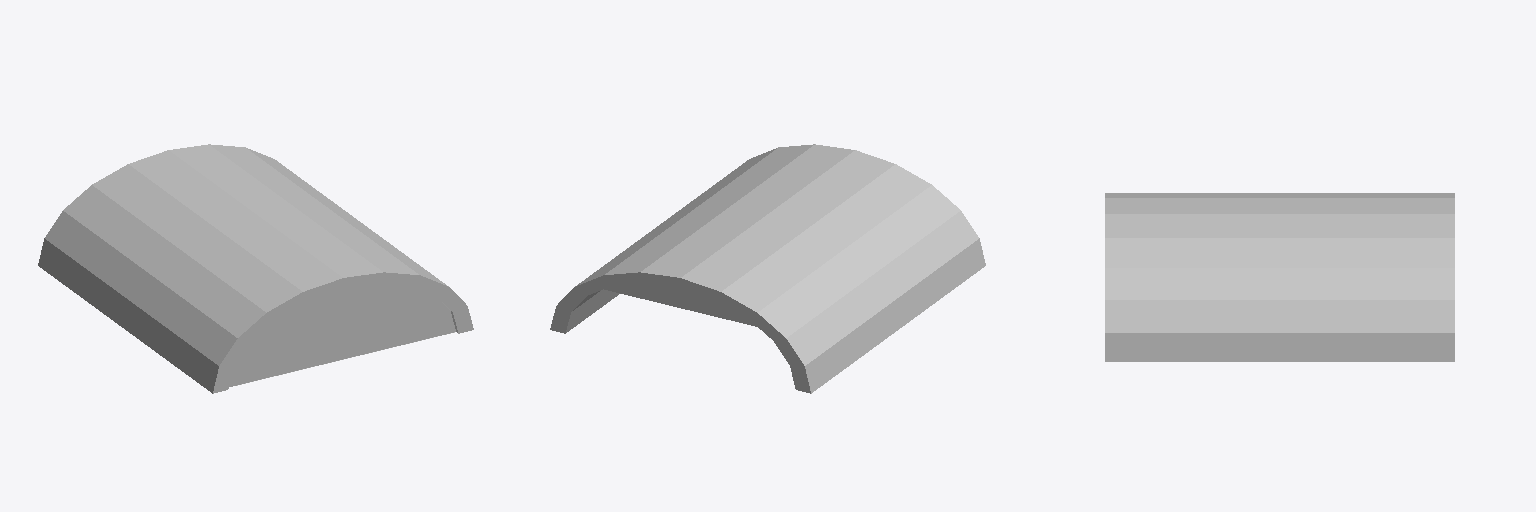
File: Hanger.obj
3 renders of one model, left to right at view 1: azimuth 30°, elevation 25°; view 2: azimuth 150°, elevation 25°; view 3: azimuth 270°, elevation 25°, orthographic.
Parts seen in each view (by area): view 1: pPipe2; view 2: pPipe2; view 3: pPipe2.
Part boxes in pixels (x1,y1,x2,y2): pPipe2: (38, 144, 473, 393); pPipe2: (550, 144, 985, 393); pPipe2: (1105, 193, 1454, 361).
Size of the model in its own units: 23.75 by 7.28 by 27.53.